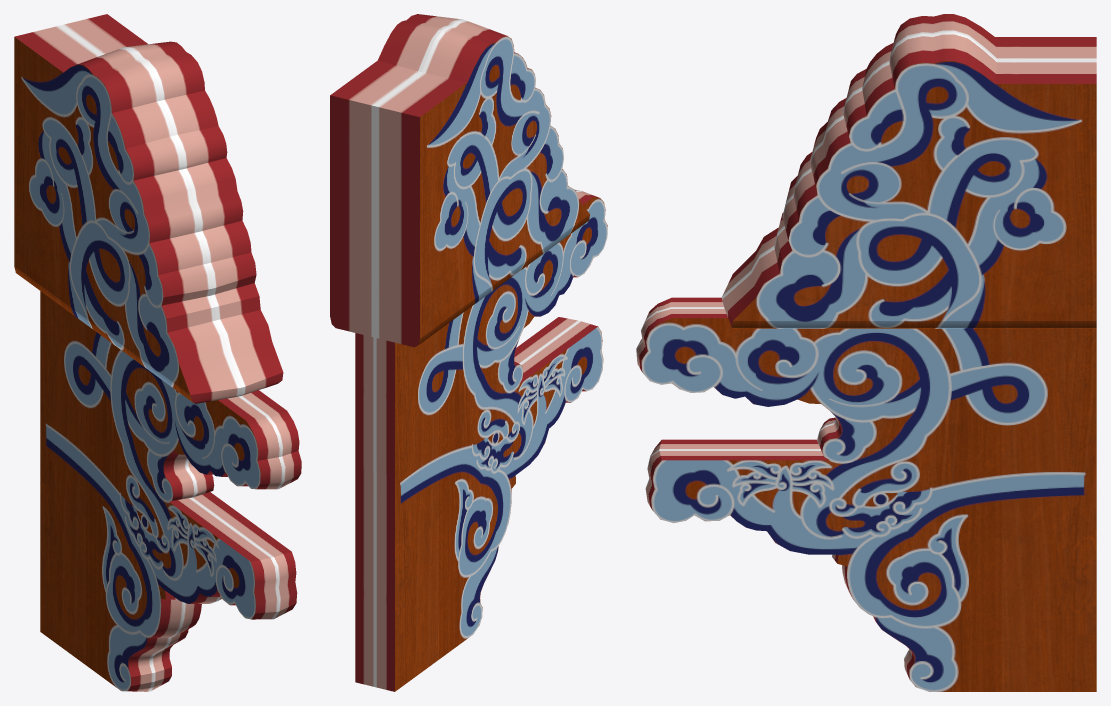
File: SM_Gongpo04N.fbx
The picture shows the model from 3 angles, left to right: view 1: azimuth 30°, elevation 25°; view 2: azimuth 150°, elevation 25°; view 3: azimuth 270°, elevation 25°; orthographic projection. The views are drawn at different scales.
Visible parts, largest first — view 1: SM_Gongpo04N; view 2: SM_Gongpo04N; view 3: SM_Gongpo04N.
Part boxes in pixels (x1,y1,x2,y2): SM_Gongpo04N: (14, 14, 301, 691); SM_Gongpo04N: (330, 14, 607, 691); SM_Gongpo04N: (636, 14, 1096, 691).
Bounding box in the file's own units: 15.29 × 63.5 × 98.8.
